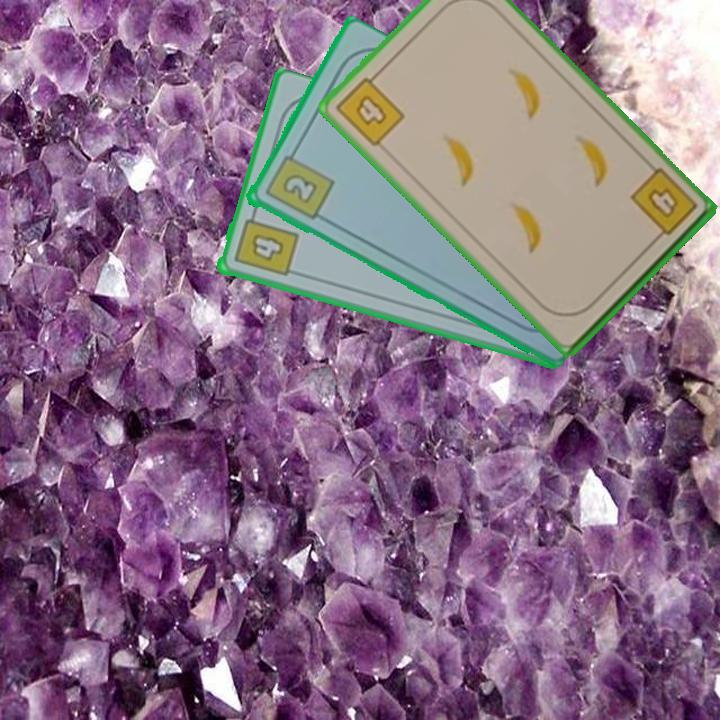2b: (261, 145, 336, 223)
4b: (331, 68, 407, 150), (626, 164, 700, 246), (229, 206, 300, 280)
